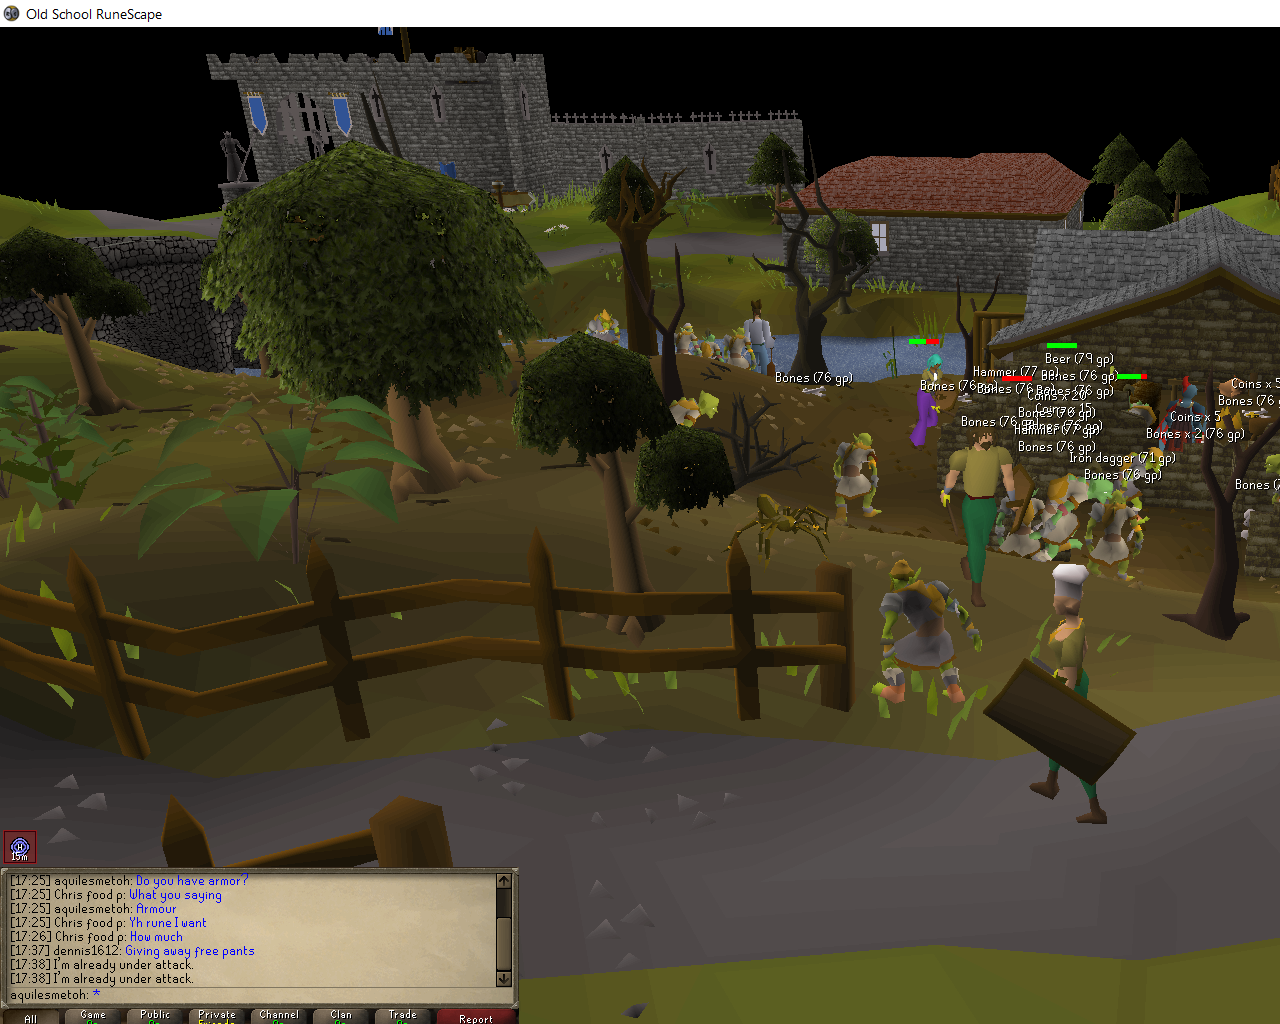Goblin: (869, 555, 980, 712), (827, 429, 892, 526), (1043, 473, 1113, 563), (1084, 490, 1146, 582), (1107, 446, 1165, 530), (997, 486, 1049, 563), (664, 381, 723, 434), (722, 328, 760, 373), (583, 310, 623, 352), (671, 323, 702, 362), (699, 333, 727, 368)
